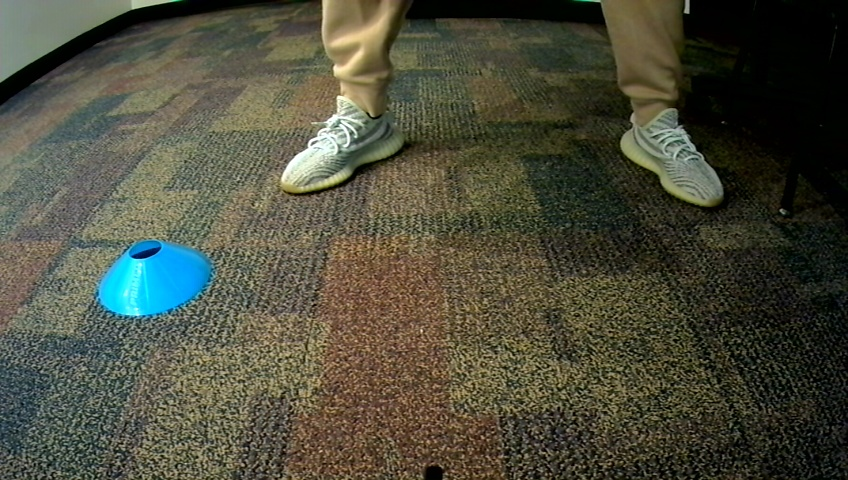cone: (97, 237, 212, 319)
